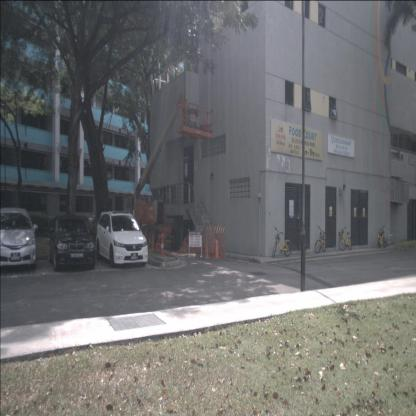cone: (213, 237, 220, 259), (204, 237, 210, 259)
